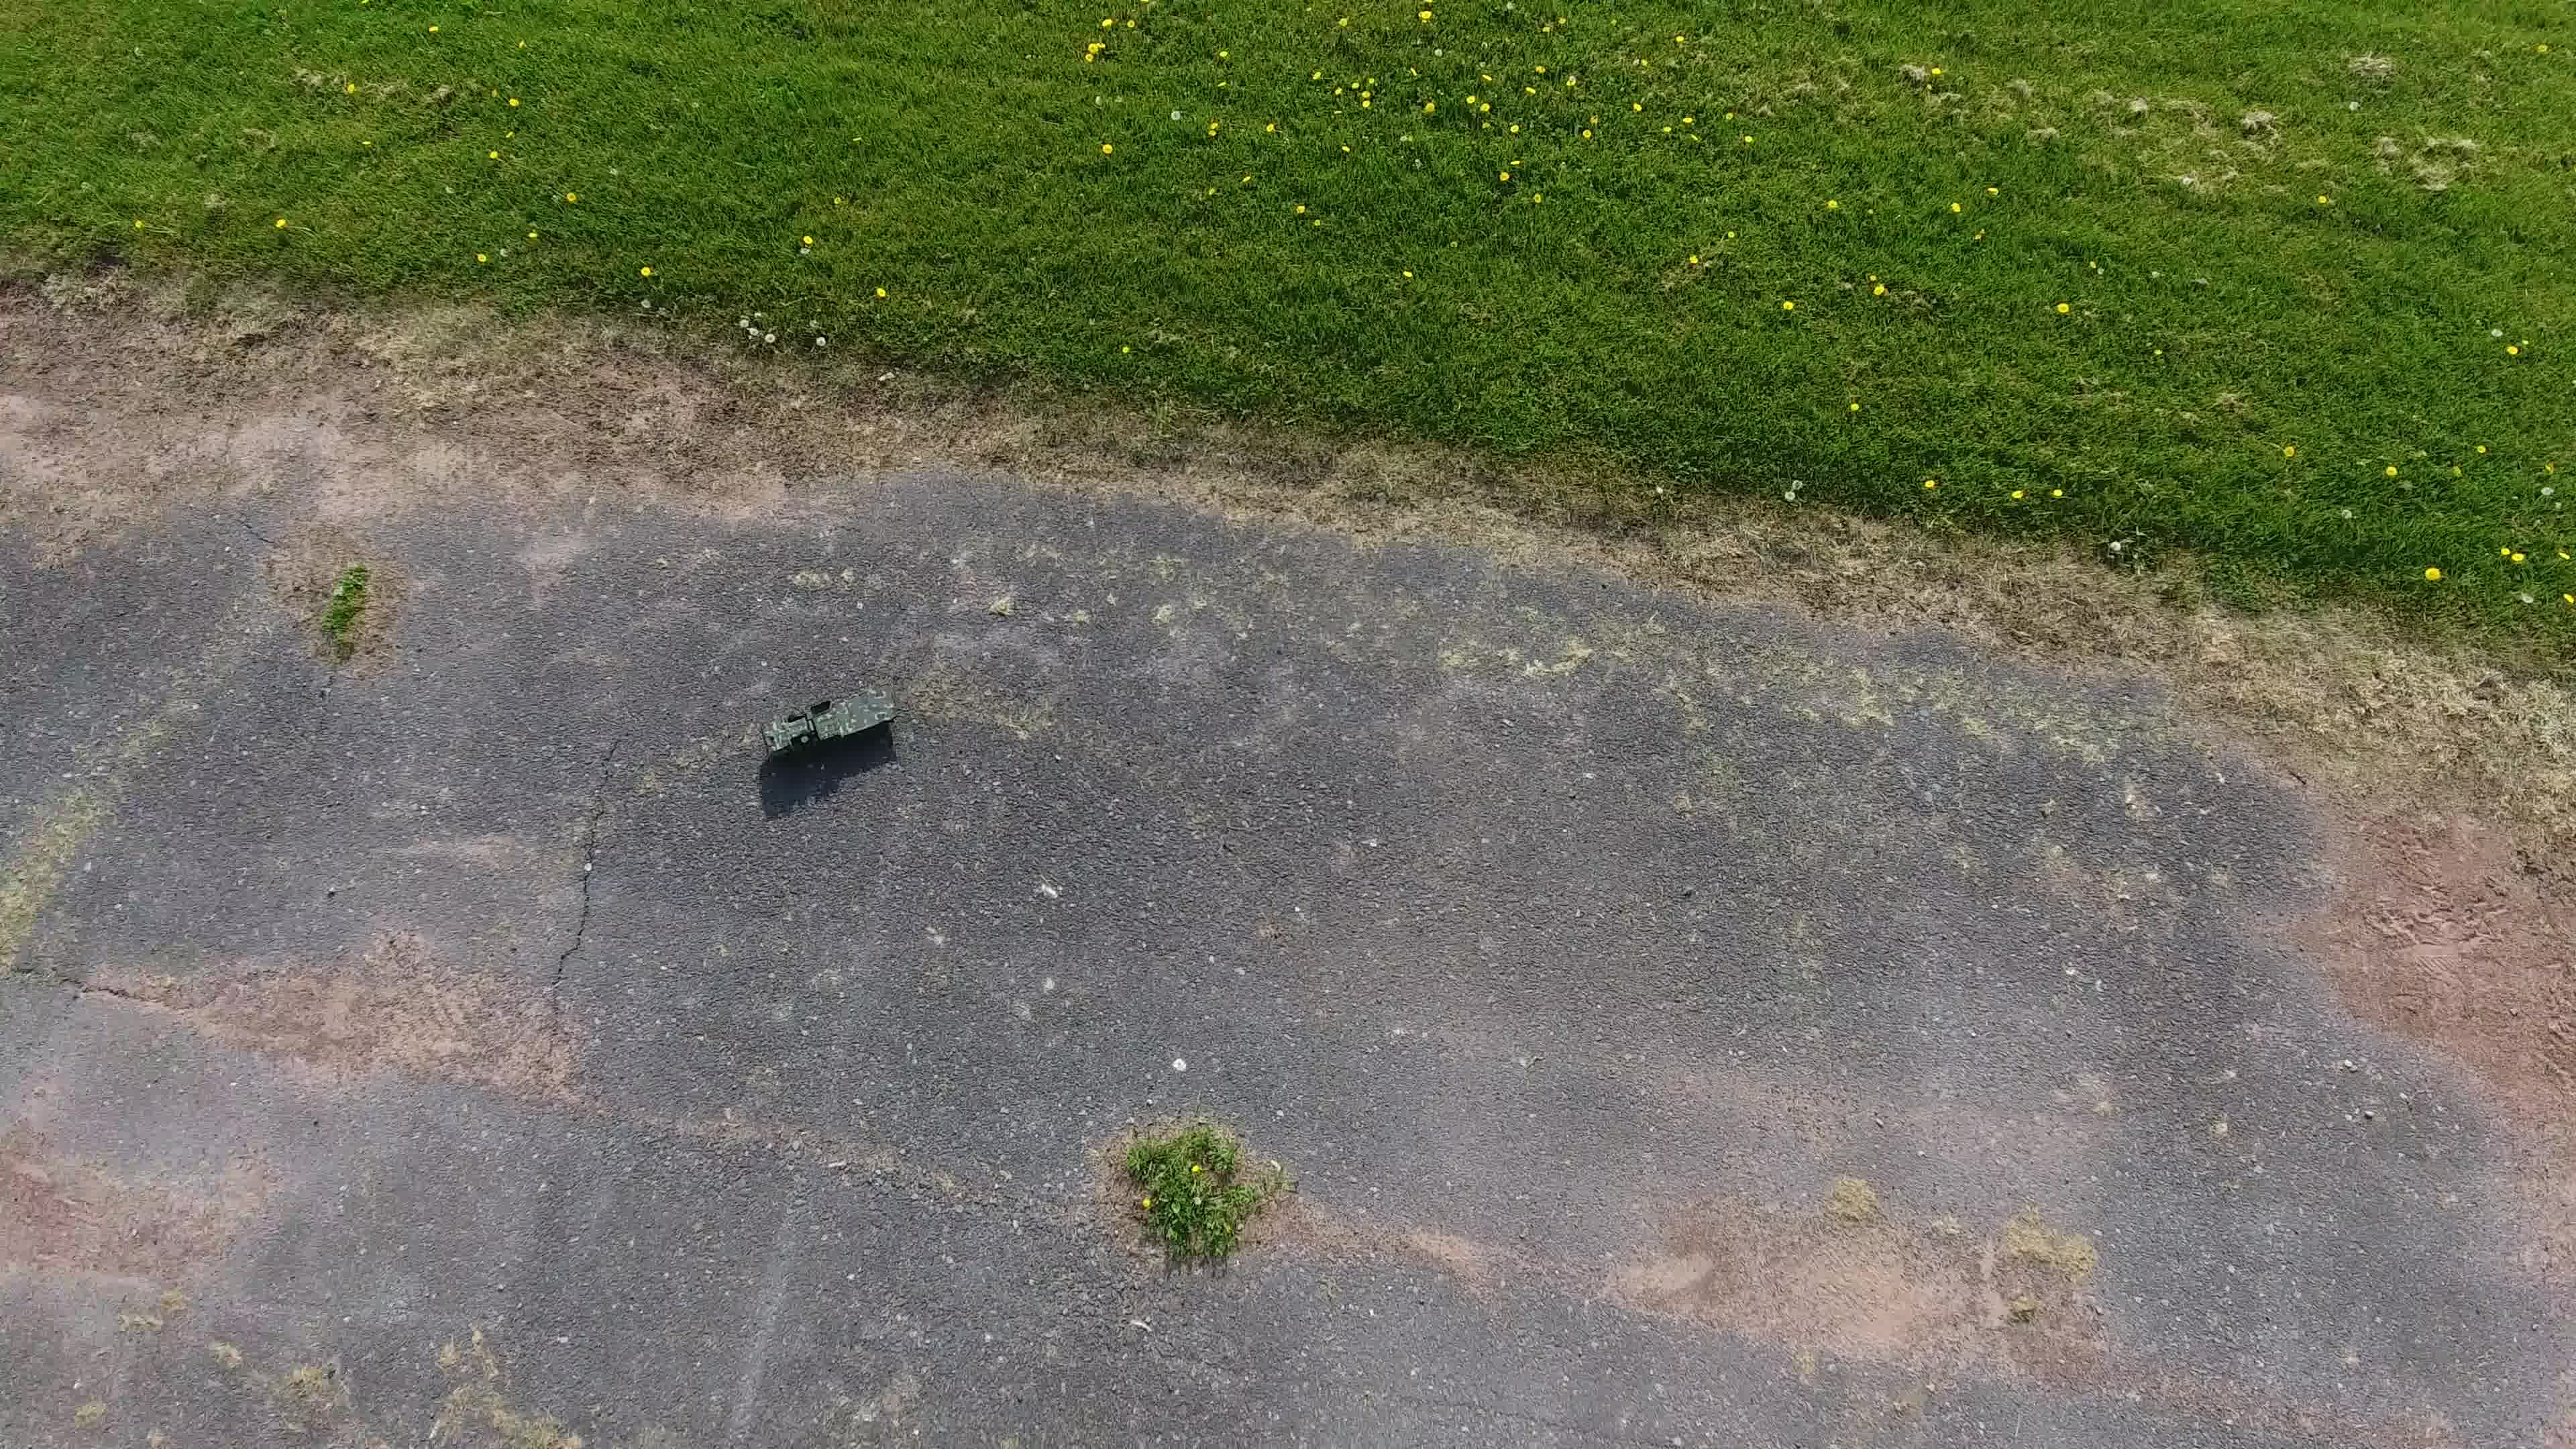transporter9_camo: (757, 679, 901, 773)
